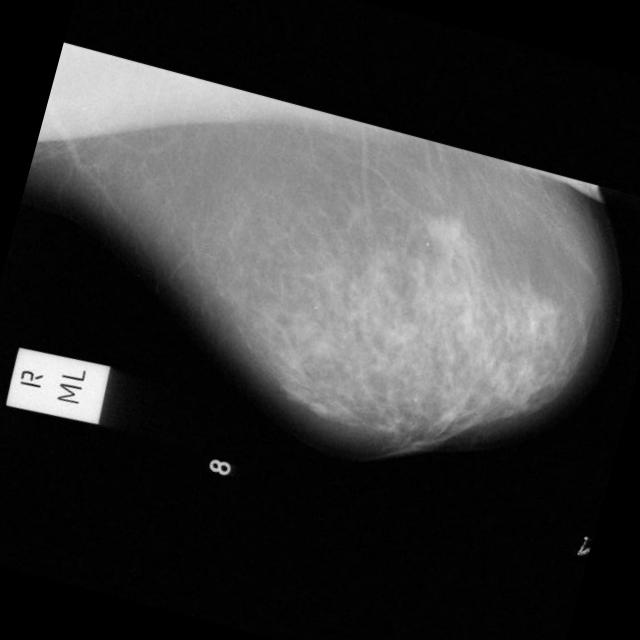MISC: (423, 207, 465, 249)
